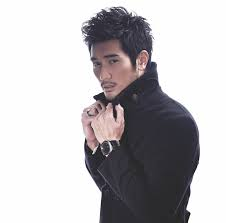asian_male: (81, 30, 148, 101)
